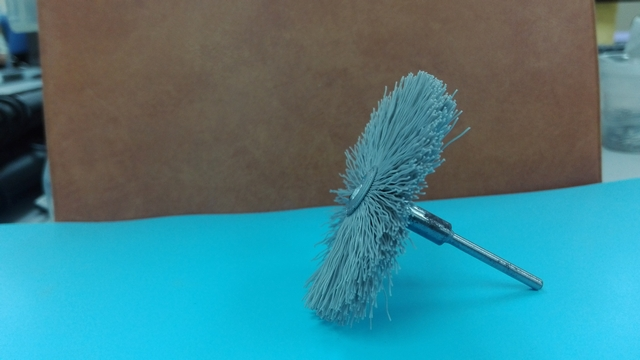TOOL: (268, 59, 563, 336), (340, 47, 560, 342), (269, 73, 496, 333)
